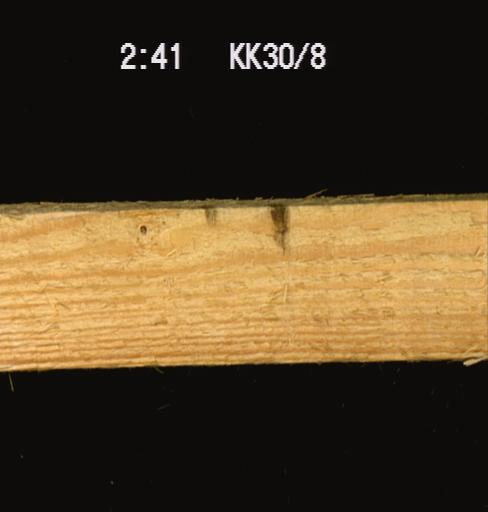small_knot: (133, 215, 152, 238)
